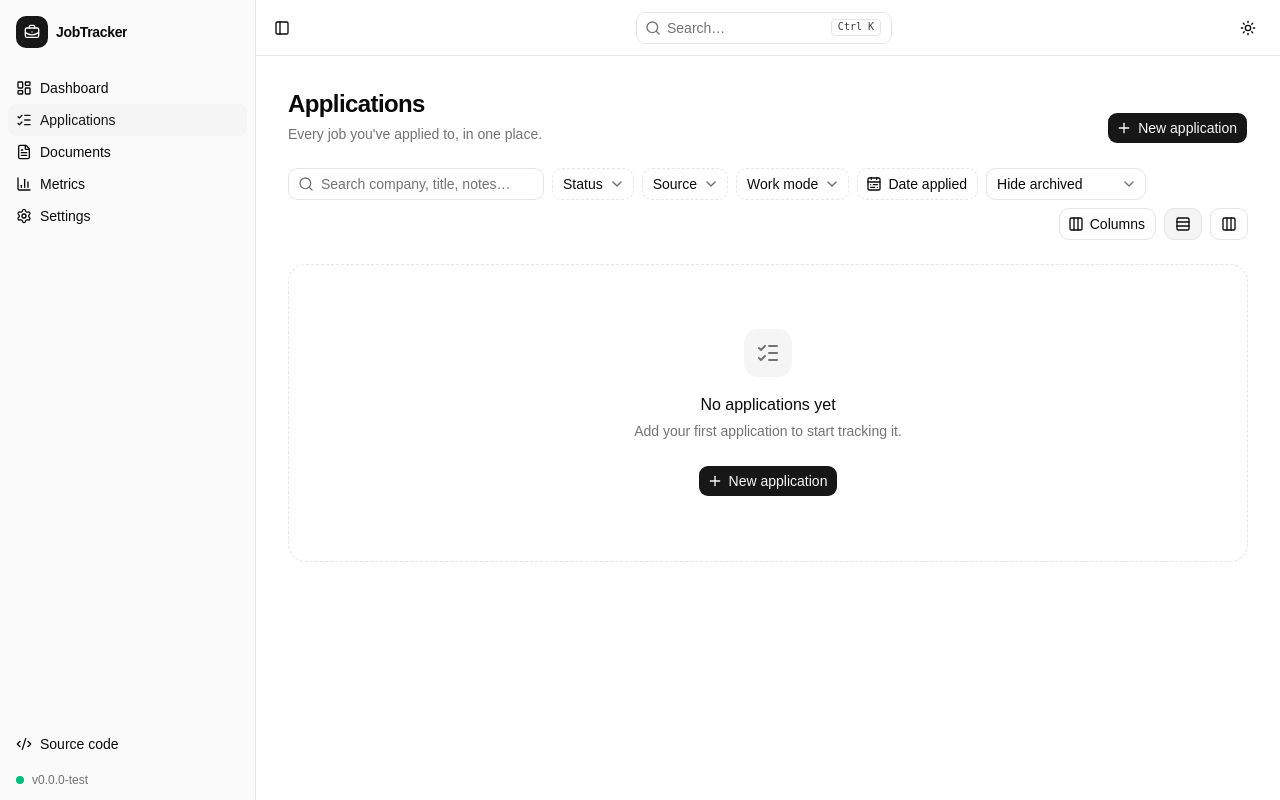
Test case: Applications page › quick add posts the form and sends the CSRF header
Expected: the heading "No applications yet" is shown, [700, 393, 836, 417]
Click the 1st button "New application" at (1178, 128), box [1107, 112, 1248, 144]
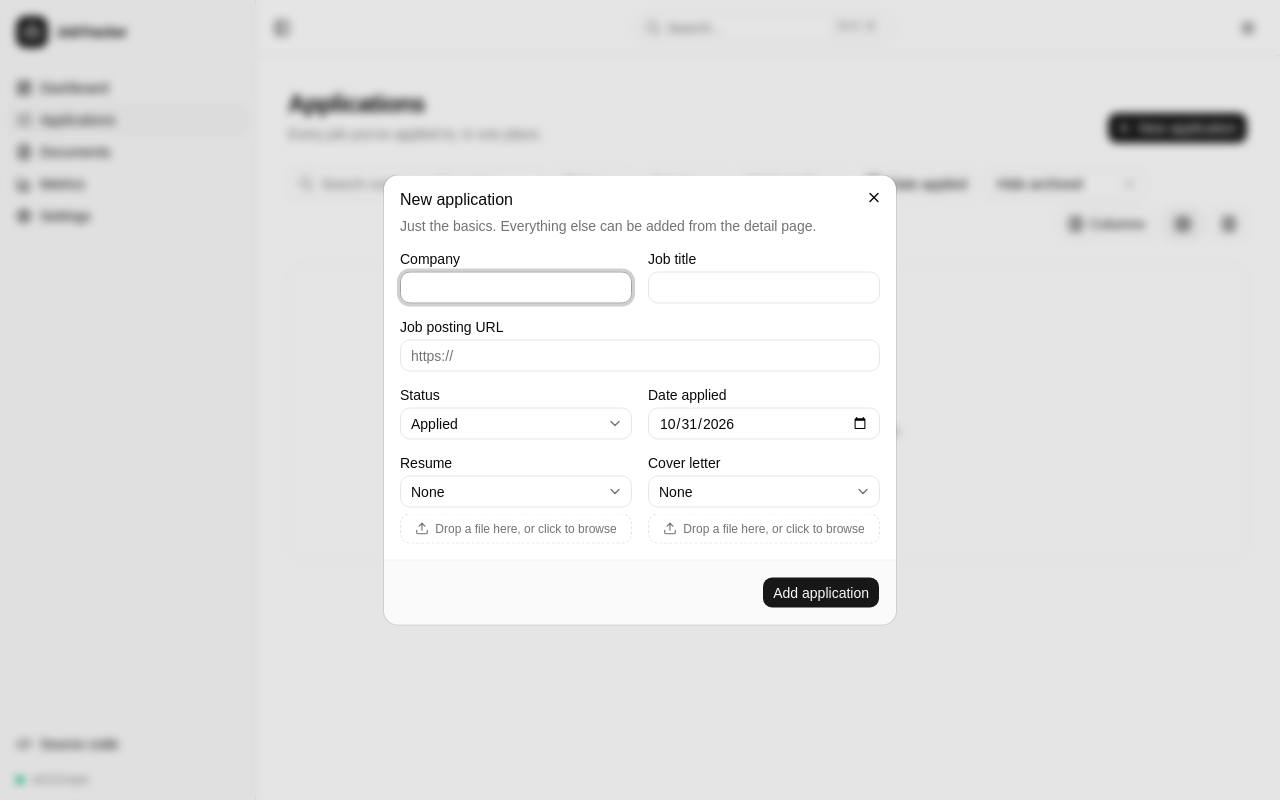
Click the button "Add application" at (821, 592), box [762, 576, 880, 608]
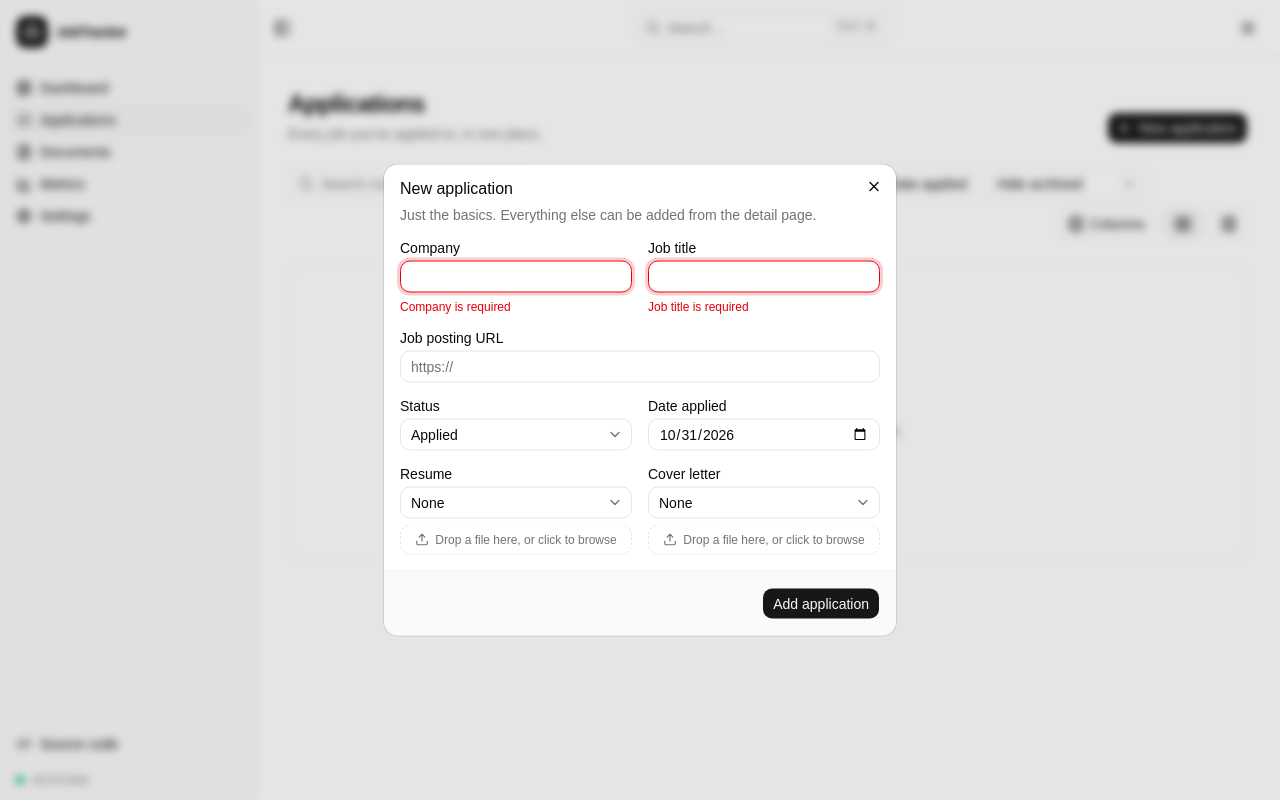
Result: the text "Company is required" is shown at [400, 300, 511, 314]
Type "Initech" into the field labelled "Company" at (516, 276), box [400, 260, 632, 292]
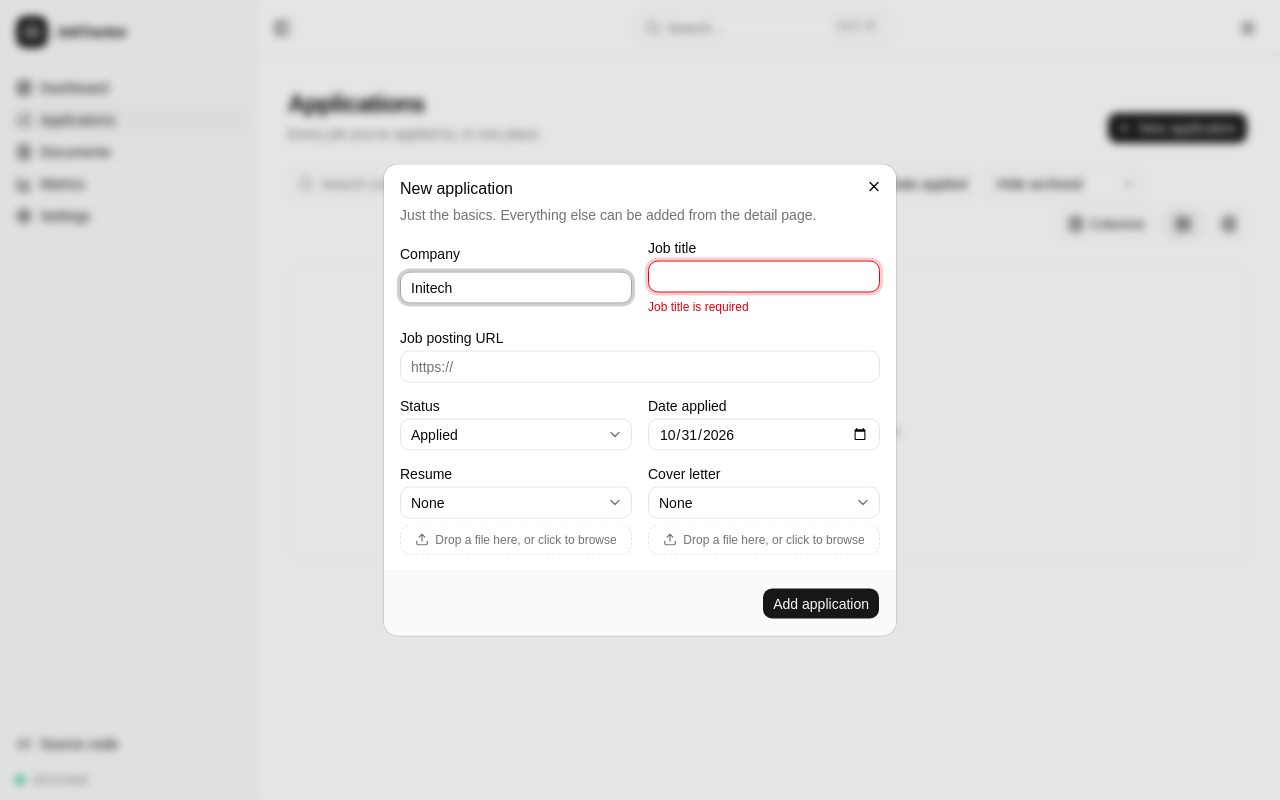
Type "Engineer" into the field labelled "Job title" at (764, 276), box [648, 260, 880, 292]
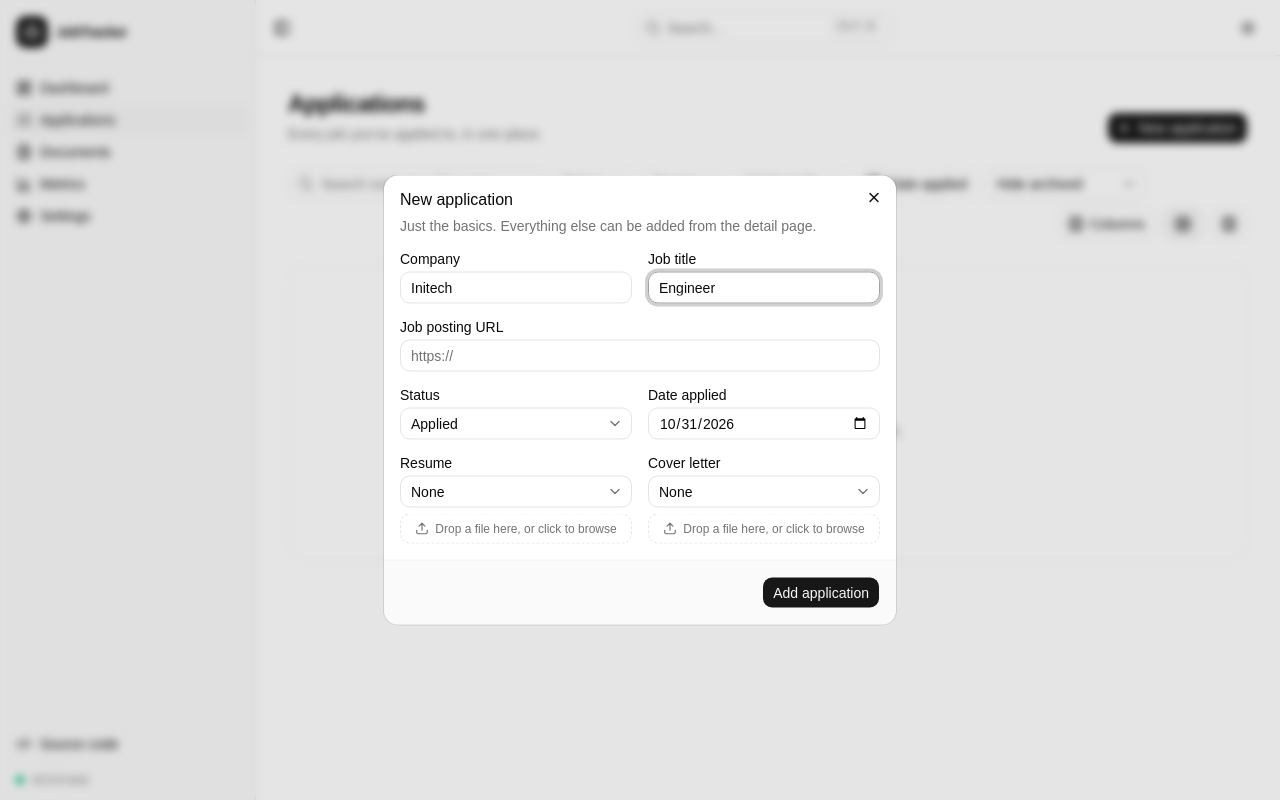
Type "https://initech.example/1" into the field labelled "Job posting URL" at (640, 356), box [400, 340, 880, 372]
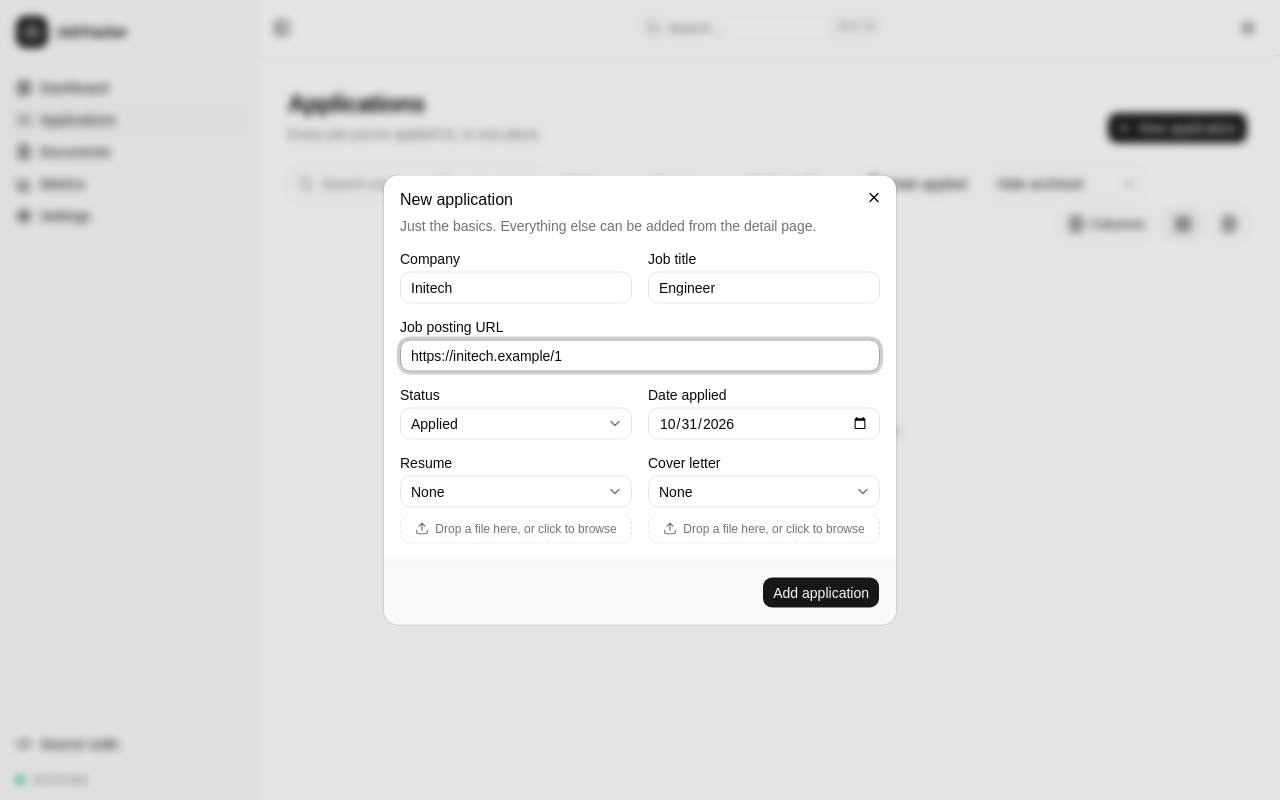
Click the button "Add application" at (821, 592), box [762, 576, 880, 608]
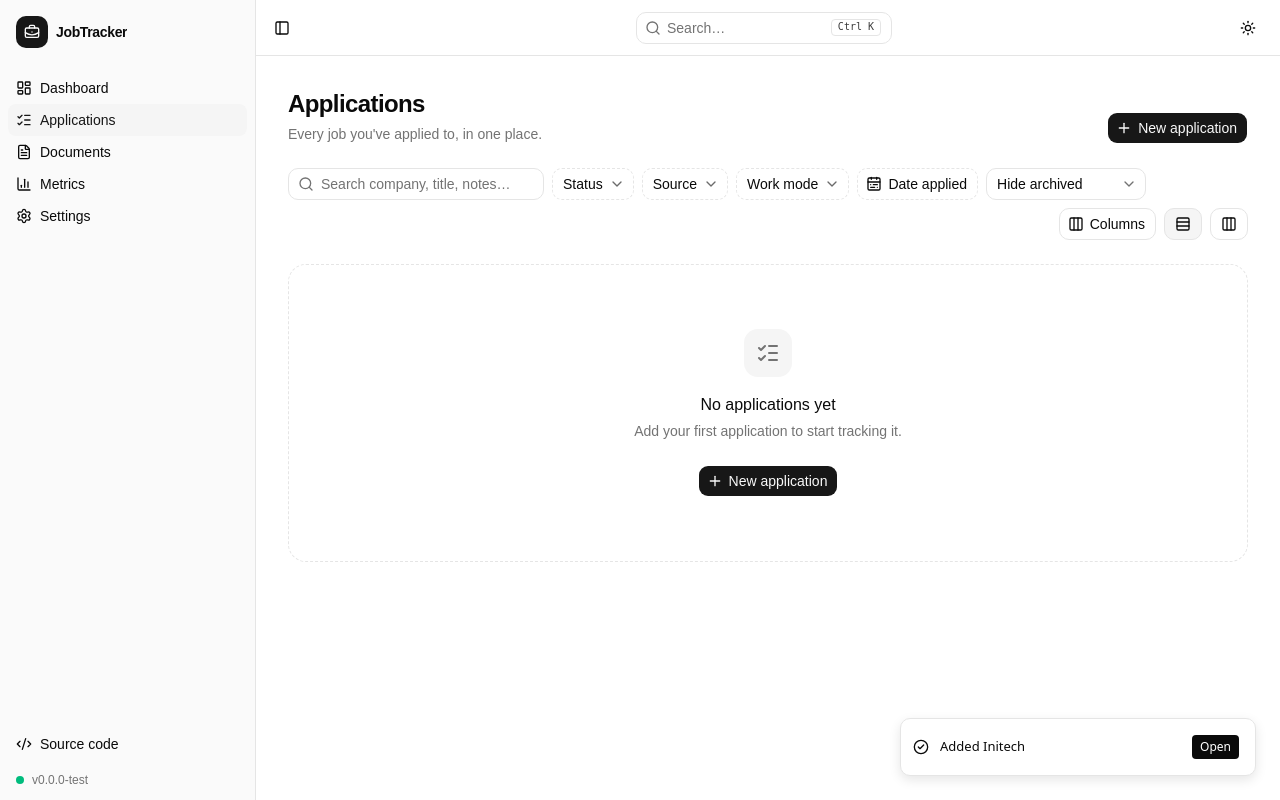
Result: the dialog is gone
Result: the text "Added Initech" is shown at [940, 737, 1025, 757]
